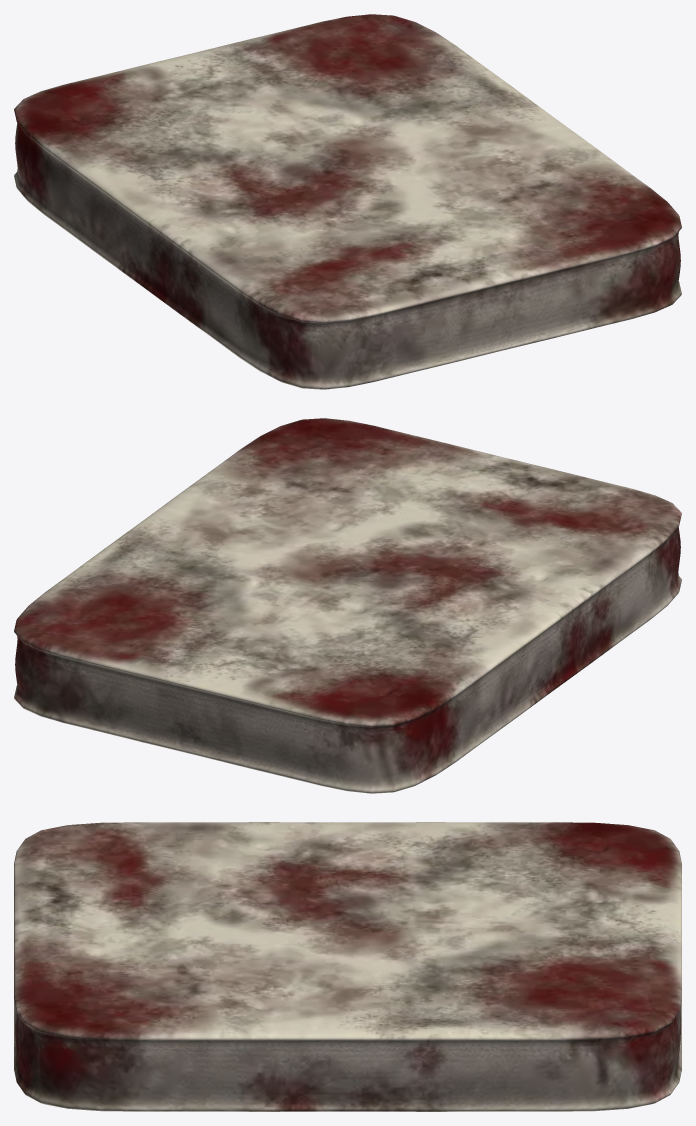
Rendered from s_colchon.glb.
The picture shows the model from 3 angles, top to bottom: view 1: azimuth 30°, elevation 25°; view 2: azimuth 150°, elevation 25°; view 3: azimuth 270°, elevation 25°; orthographic projection. The views are drawn at different scales.
Visible parts, largest first — view 1: defaultMaterial; view 2: defaultMaterial; view 3: defaultMaterial.
Boxes of the visible parts, x1,y1,x2,y2 form: defaultMaterial: (14,14,681,389); defaultMaterial: (14,418,681,793); defaultMaterial: (14,822,681,1111).
Bounding box in the file's own units: 1.45 × 0.2605 × 1.9.
1 material, 1 textured.
